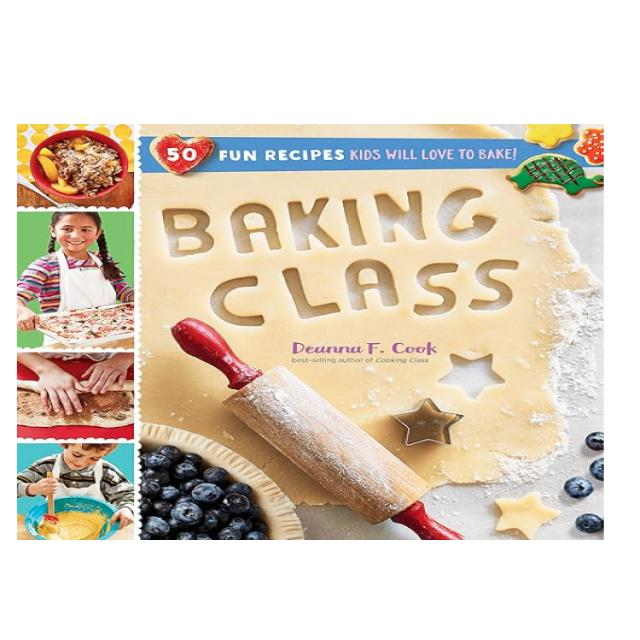titles-or-authors: (155, 181, 532, 332), (284, 336, 444, 358)
